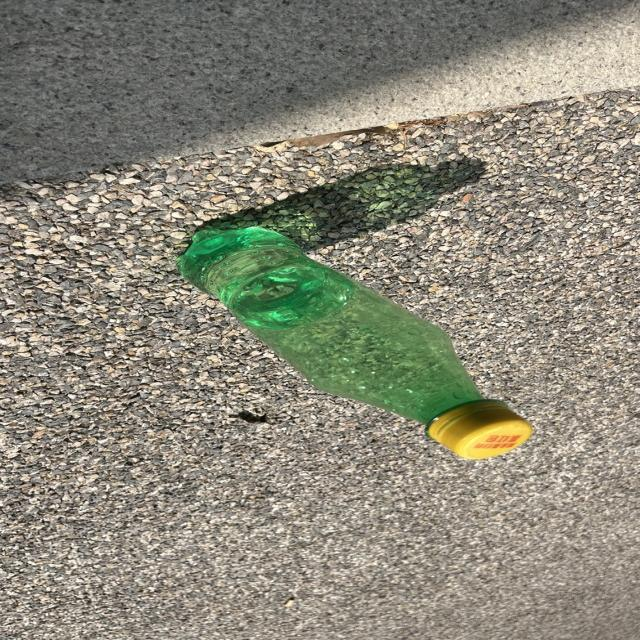medium: (178, 226, 530, 458)
